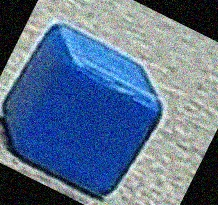blue_cube: (8, 14, 174, 198)
